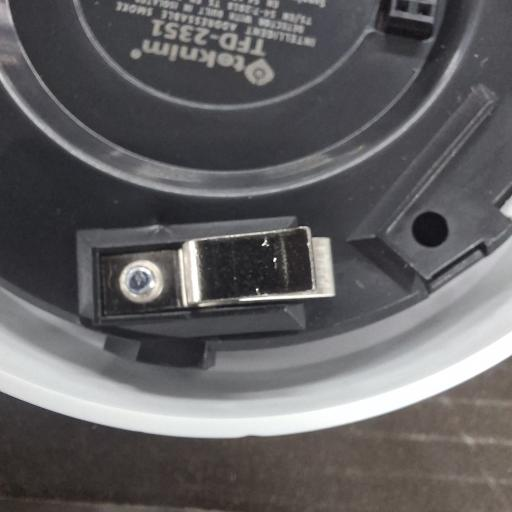yayli: (88, 225, 331, 324)
